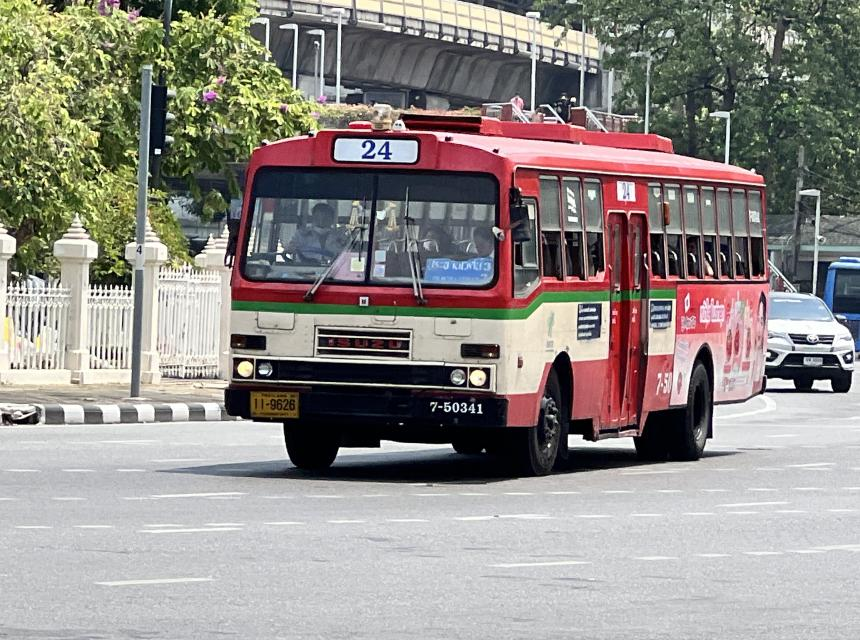BMTA-bus: (222, 113, 770, 477)
Bus Line Number: (330, 131, 422, 168)
Bus Side Number: (428, 398, 492, 416)
Destination Sign: (425, 256, 496, 285)
